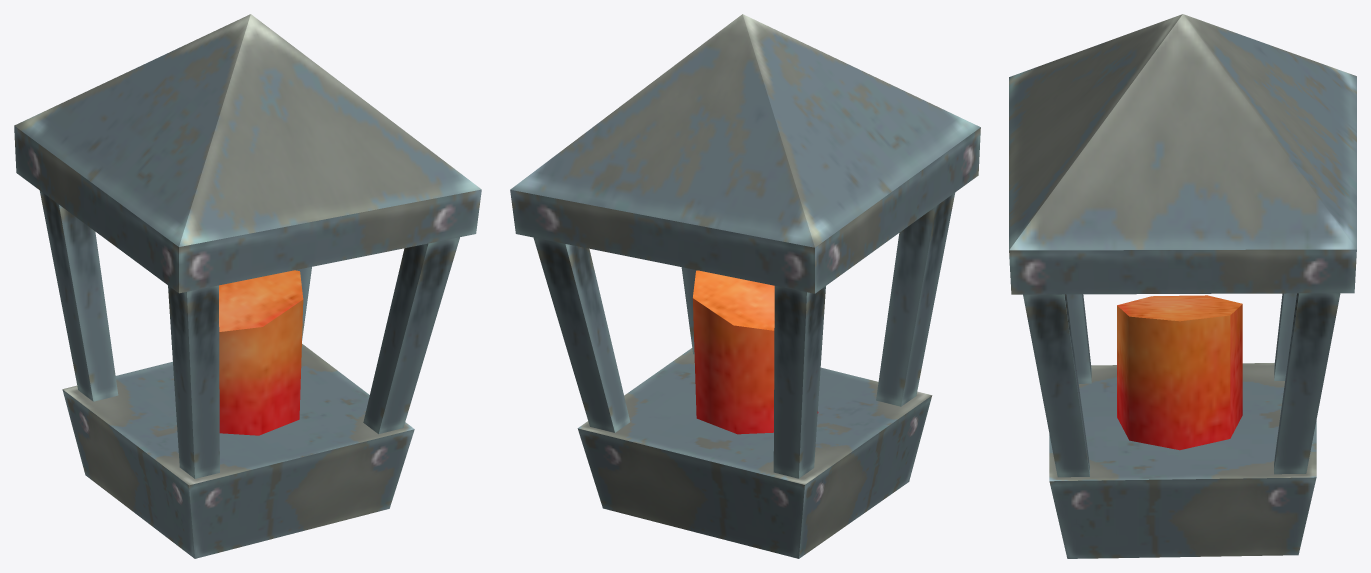
Rendered from Lantern01.FBX.
3 renders of one model, left to right at view 1: azimuth 30°, elevation 25°; view 2: azimuth 150°, elevation 25°; view 3: azimuth 270°, elevation 25°, orthographic. The views are drawn at different scales.
Parts seen in each view (by area): view 1: Lantern_01; view 2: Lantern_01; view 3: Lantern_01.
Boxes of the visible parts, bbox=[...] form: Lantern_01: bbox=[14, 14, 481, 558]; Lantern_01: bbox=[510, 14, 980, 558]; Lantern_01: bbox=[1009, 14, 1356, 558].
Size of the model in its own units: 5.71 by 8.6 by 5.38.
